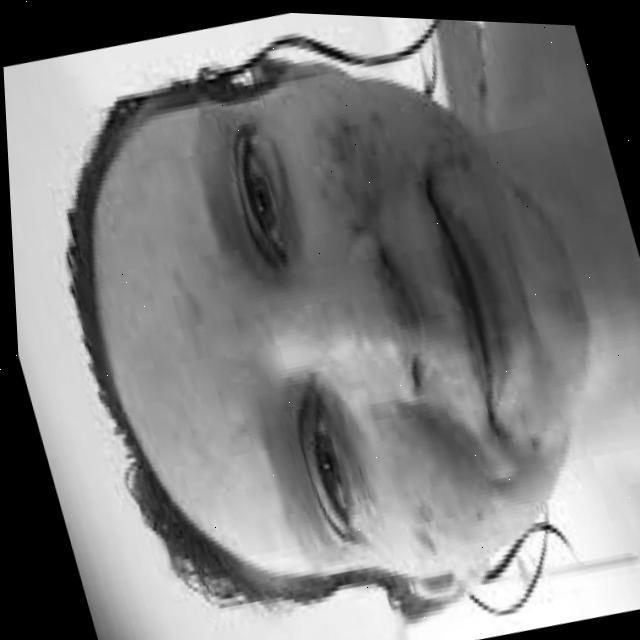Rosacea: (154, 215, 431, 447), (346, 373, 514, 566), (281, 86, 418, 241)
